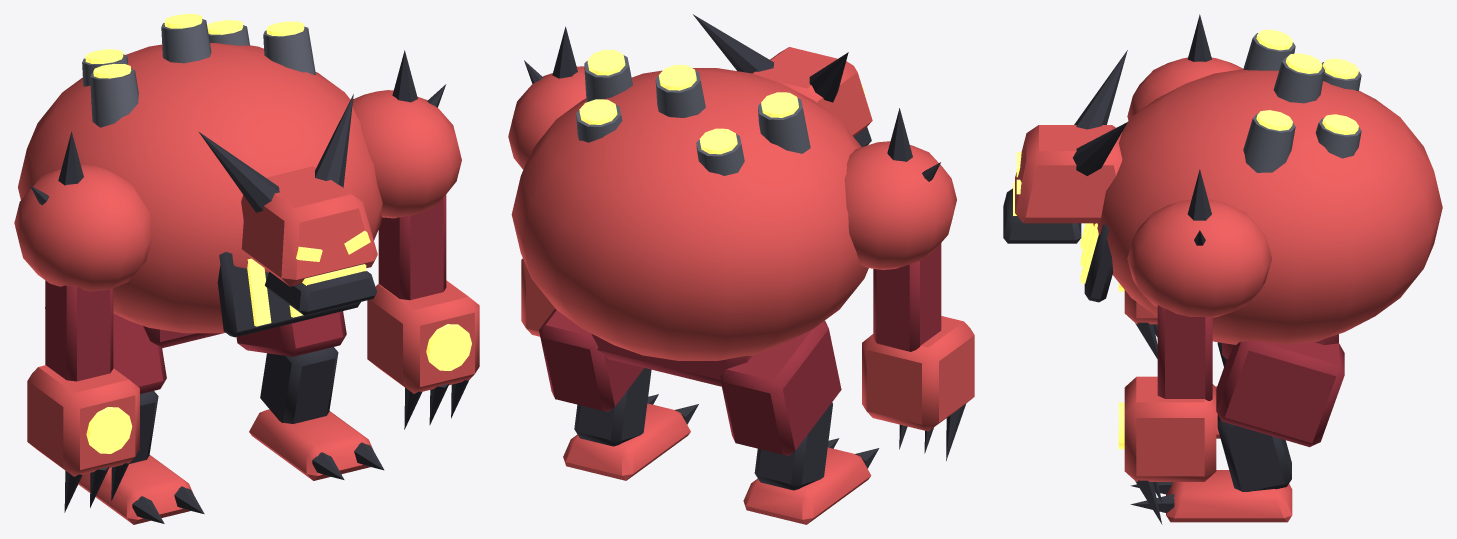
Rendered from boss_inferno.glb.
The picture shows the model from 3 angles, left to right: view 1: azimuth 30°, elevation 25°; view 2: azimuth 150°, elevation 25°; view 3: azimuth 270°, elevation 25°; orthographic projection. The views are drawn at different scales.
Parts seen in each view (by area): view 1: torso, armL, armR, head, legR, legL; view 2: torso, armL, legL, legR, head, armR; view 3: torso, armR, legR, head, armL.
Boxes of the visible parts, x1,y1,x2,y2 form: torso: [18, 14, 382, 348]; armL: [14, 131, 152, 512]; armR: [352, 50, 479, 429]; head: [198, 94, 377, 315]; legR: [236, 311, 384, 480]; legL: [45, 307, 204, 524]; torso: [511, 49, 868, 386]; armL: [844, 108, 974, 460]; legL: [720, 320, 879, 524]; legR: [539, 308, 698, 480]; head: [693, 14, 872, 146]; armR: [508, 26, 586, 336]; torso: [1080, 29, 1442, 358]; armR: [1118, 169, 1271, 524]; legR: [1130, 340, 1344, 522]; head: [1003, 50, 1127, 243]; armL: [1118, 14, 1242, 358].
Bounding box in the file's own units: 6.35 × 6.15 × 6.
